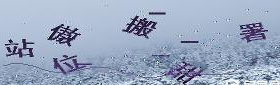chinese: (238, 20, 271, 51), (122, 12, 156, 39), (47, 21, 81, 47), (2, 37, 35, 61), (52, 57, 88, 79), (174, 60, 202, 85)
